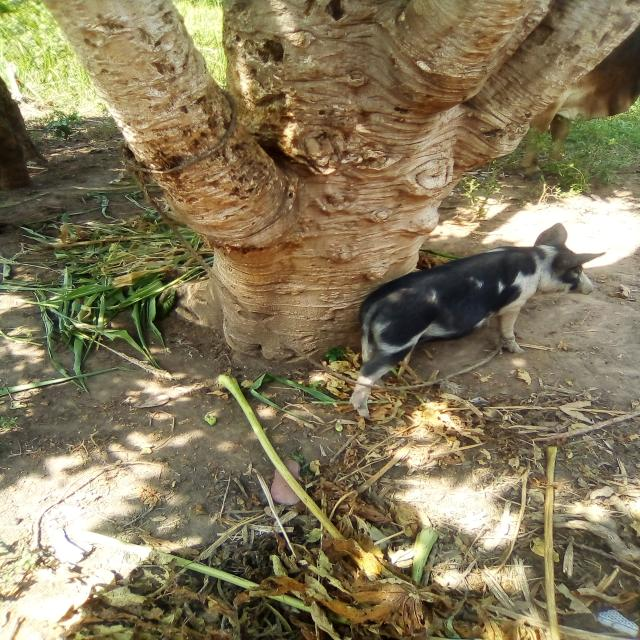pig: (300, 207, 621, 428)
